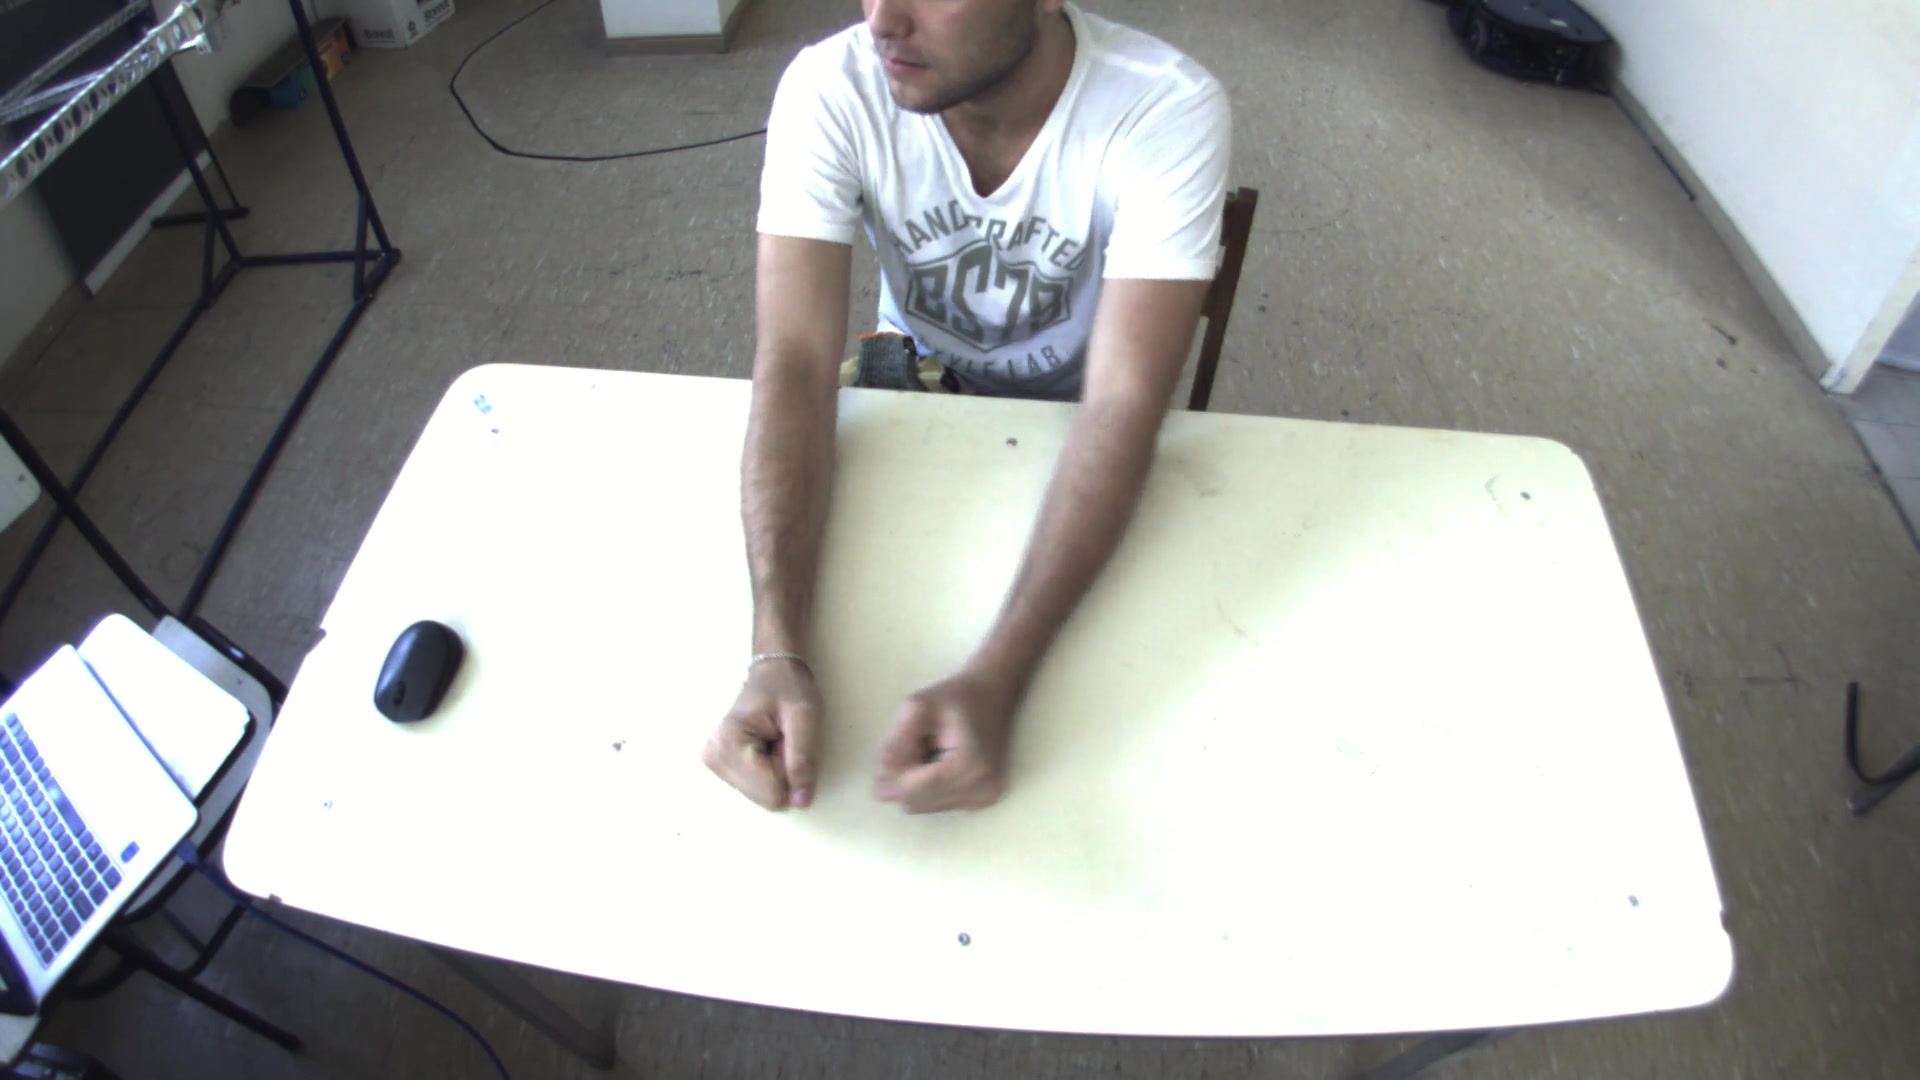hand: (691, 646, 832, 822), (862, 670, 1019, 825)
